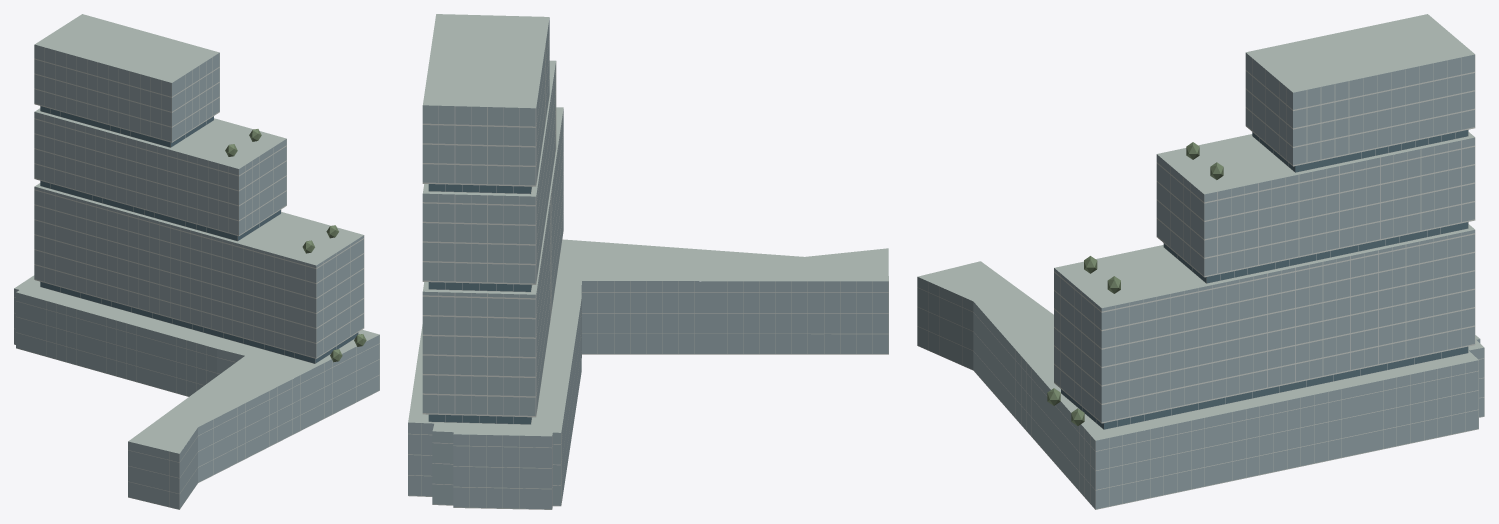
The model's file is tribunal-de-paris-far.glb.
3 renders of one model, left to right at view 1: azimuth 30°, elevation 25°; view 2: azimuth 150°, elevation 25°; view 3: azimuth 270°, elevation 25°, orthographic. The views are drawn at different scales.
Parts seen in each view (by area): view 1: tribunal-de-paris-0-glass, tribunal-de-paris-0-roof, tribunal-de-paris-0-frame, tribunal-de-paris-0-shade, tribunal-de-paris-0-leaf; view 2: tribunal-de-paris-0-glass, tribunal-de-paris-0-roof, tribunal-de-paris-0-frame, tribunal-de-paris-0-shade; view 3: tribunal-de-paris-0-glass, tribunal-de-paris-0-roof, tribunal-de-paris-0-frame, tribunal-de-paris-0-shade, tribunal-de-paris-0-leaf.
Part boxes in pixels (x1=…): tribunal-de-paris-0-glass: x1=14, y1=44, x2=379, y2=509; tribunal-de-paris-0-roof: x1=14, y1=14, x2=379, y2=453; tribunal-de-paris-0-frame: x1=14, y1=47, x2=379, y2=509; tribunal-de-paris-0-shade: x1=40, y1=106, x2=358, y2=363; tribunal-de-paris-0-leaf: x1=225, y1=129, x2=366, y2=362; tribunal-de-paris-0-glass: x1=408, y1=18, x2=888, y2=509; tribunal-de-paris-0-roof: x1=408, y1=14, x2=888, y2=436; tribunal-de-paris-0-frame: x1=408, y1=36, x2=888, y2=509; tribunal-de-paris-0-shade: x1=428, y1=184, x2=531, y2=424; tribunal-de-paris-0-glass: x1=917, y1=53, x2=1484, y2=509; tribunal-de-paris-0-roof: x1=918, y1=14, x2=1483, y2=440; tribunal-de-paris-0-frame: x1=917, y1=55, x2=1484, y2=509; tribunal-de-paris-0-shade: x1=1061, y1=130, x2=1468, y2=429; tribunal-de-paris-0-leaf: x1=1047, y1=142, x2=1223, y2=425.
Size of the model in its own units: 167 by 160 by 223.
